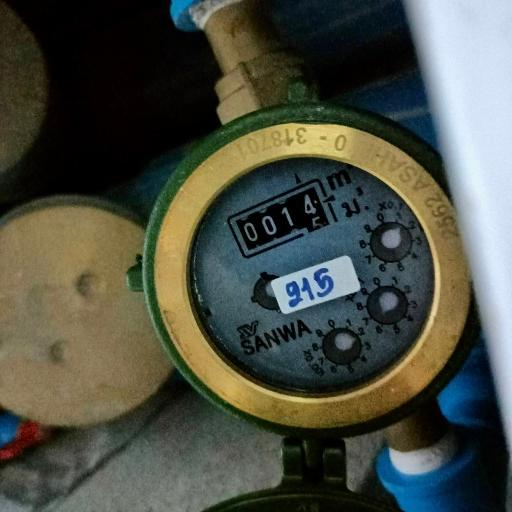0: (252, 205, 285, 244), (235, 213, 265, 251)
1: (270, 195, 306, 237)
4: (291, 185, 329, 233)
border_water_meter_number: (224, 177, 338, 262)
